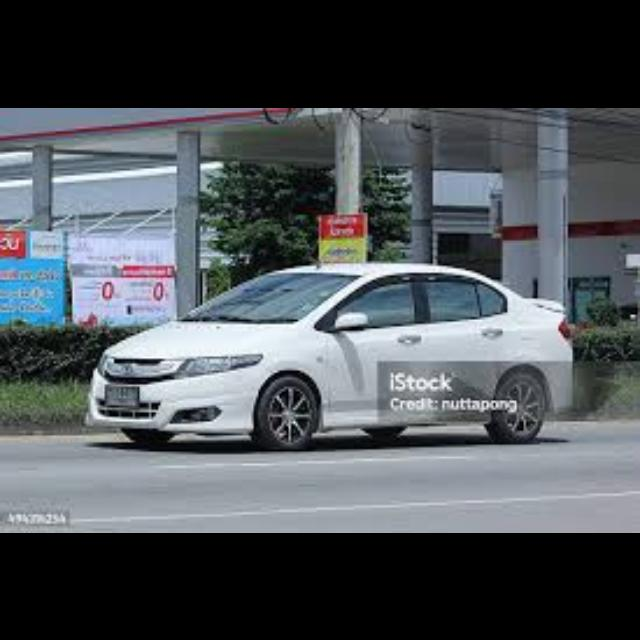vehicles: (82, 254, 570, 448)
